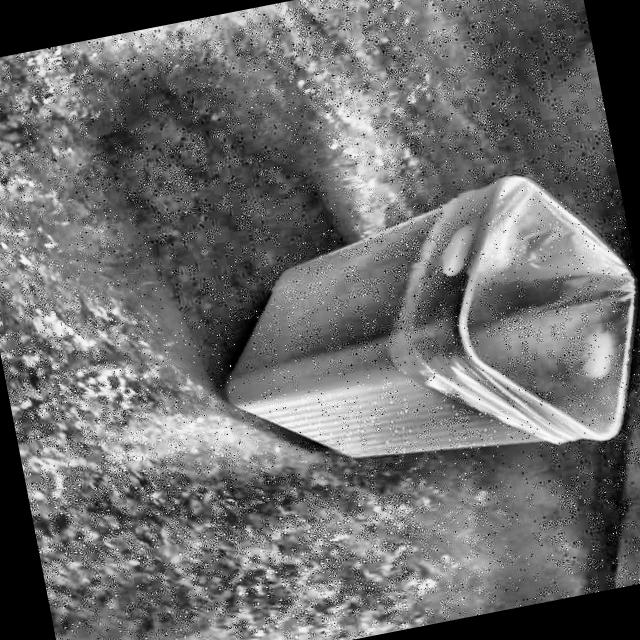Dustbin: (176, 141, 640, 533)
